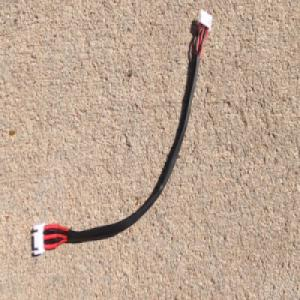Wire: (30, 8, 211, 260)
